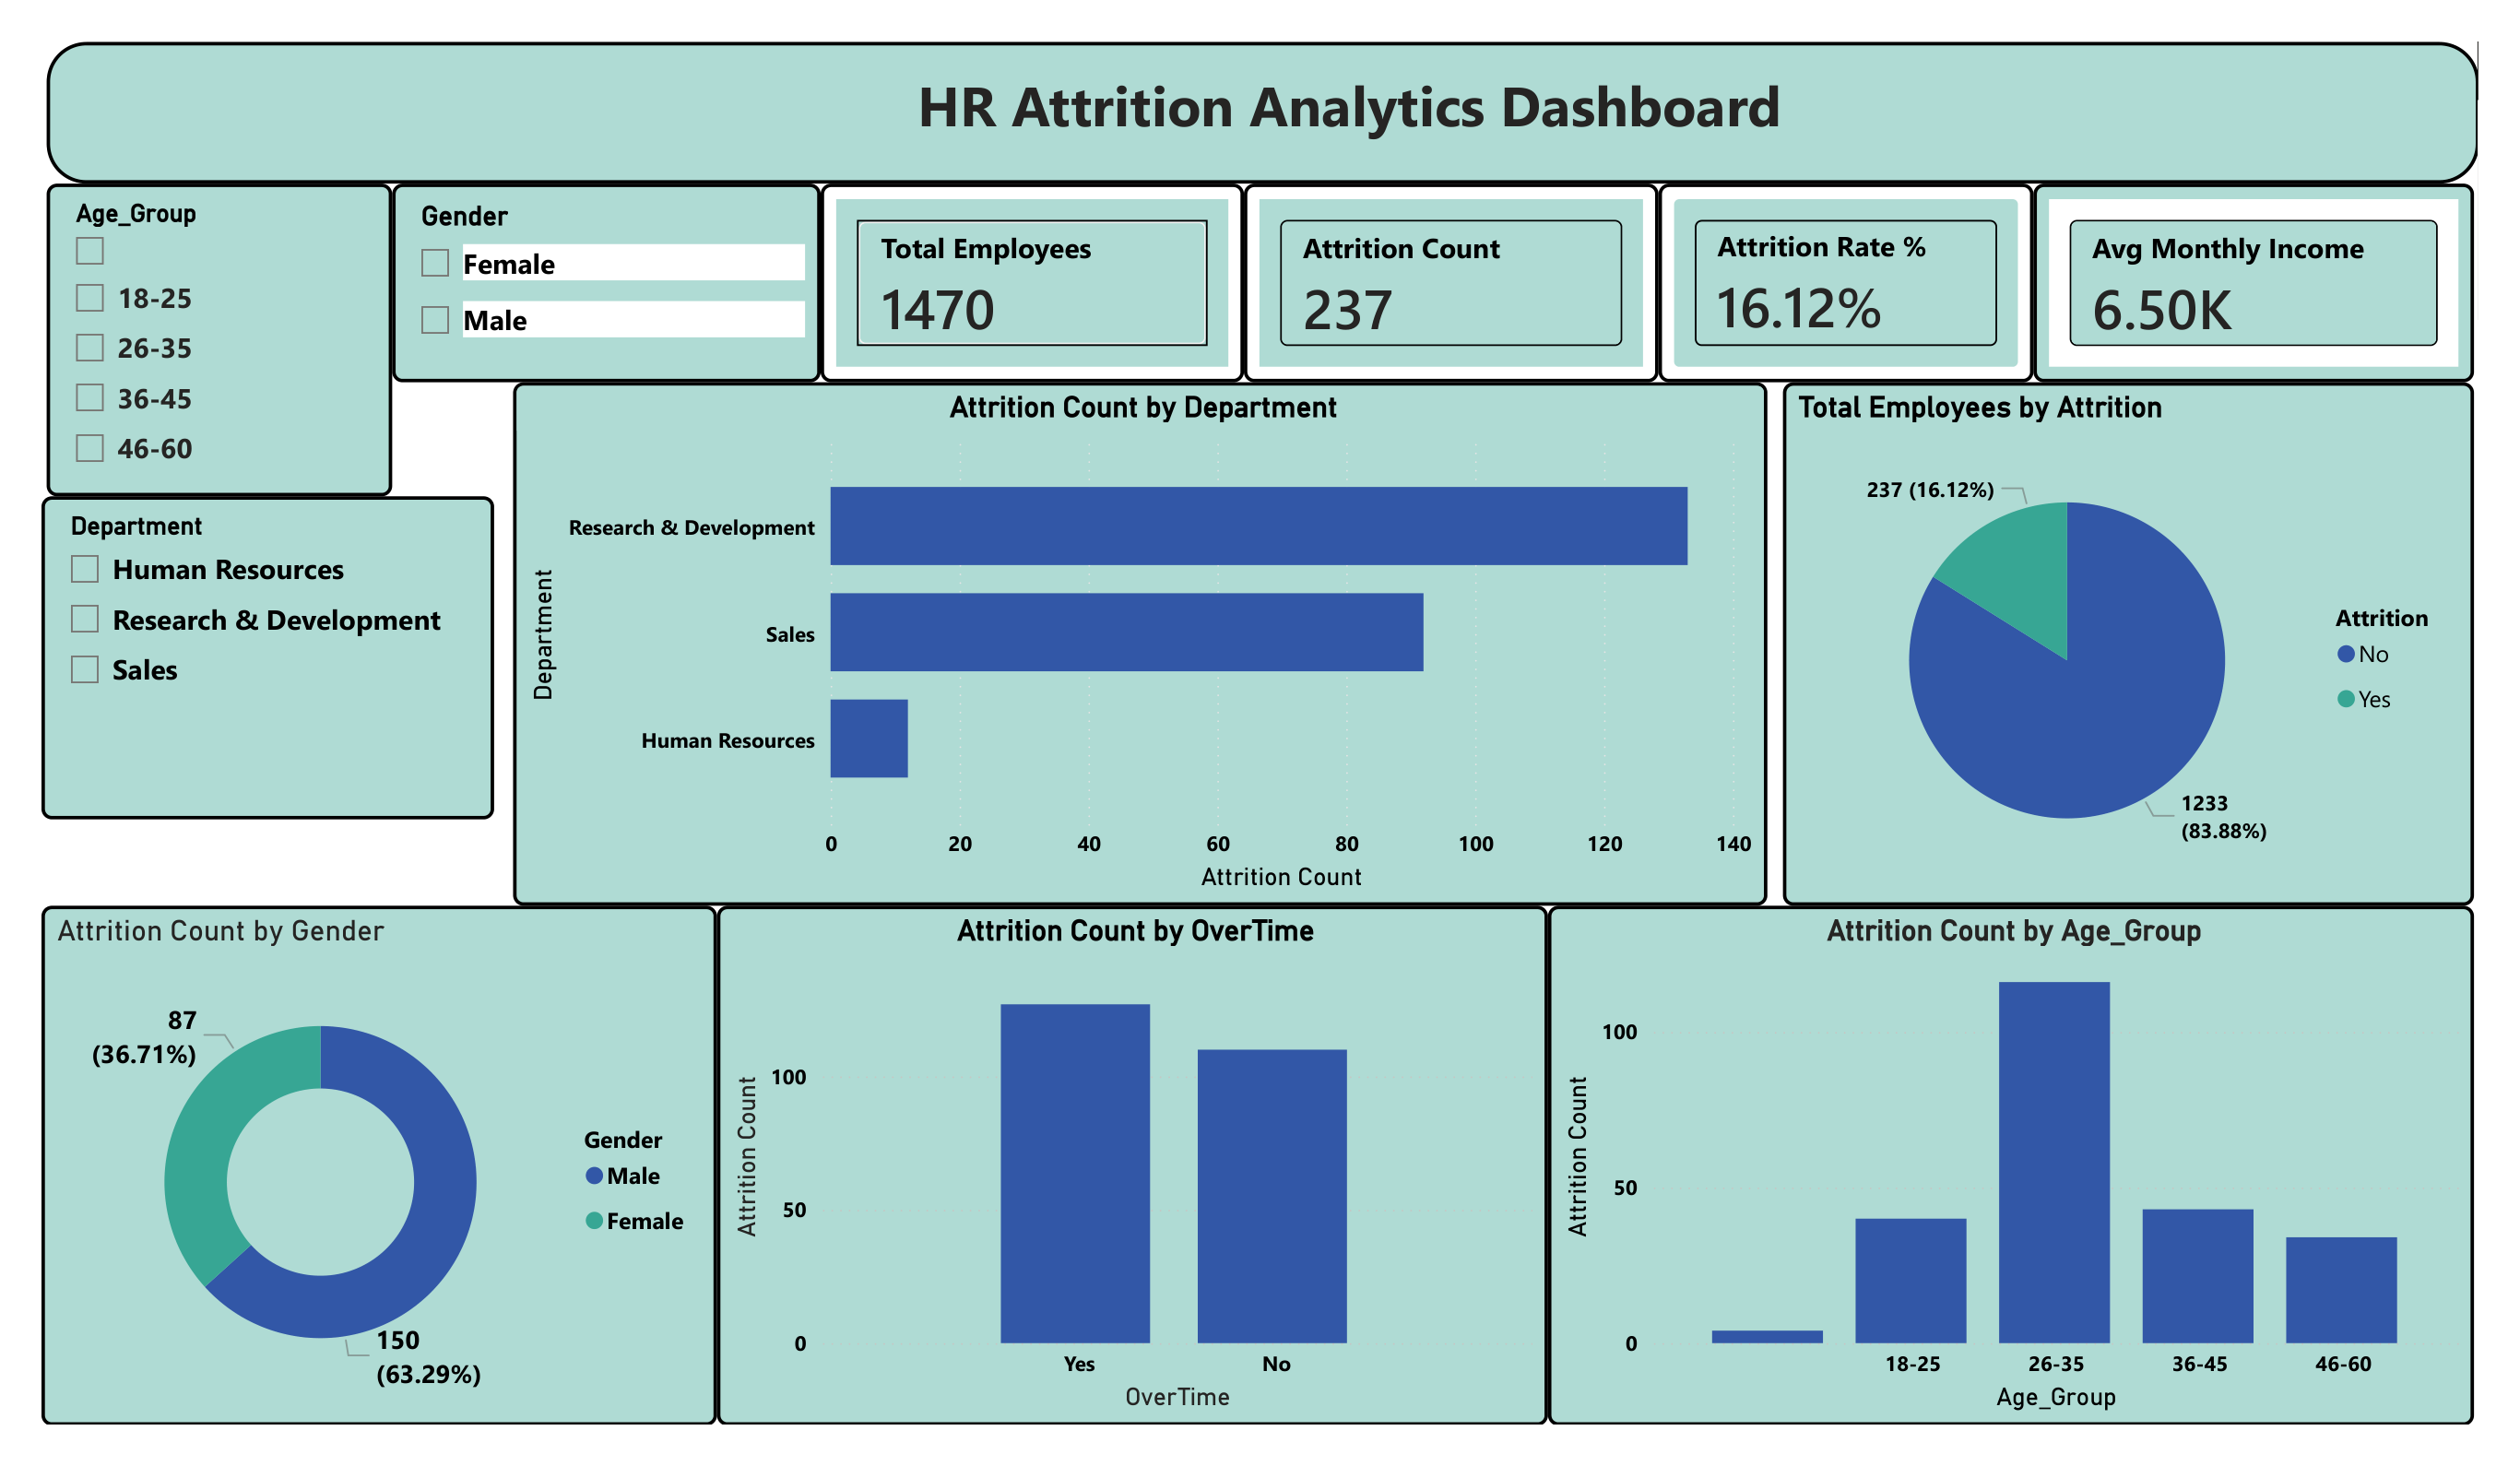

What the dashboard file says about the page in this screenshot:
{"tool":"powerbi","page":{"name":"Hr Attrition  Analysis","canvas":[1410,800],"ordinal":0},"visuals":[{"type":"cardVisual","fields":{"Data":["HR_Attrition_Clean.Attrition Count"]},"box":[696.4,82.3,239.9,115.2],"z":0},{"type":"cardVisual","fields":{"Data":["HR_Attrition_Clean.Attrition Rate %"]},"box":[936.3,82.3,216.6,115.2],"z":1000},{"type":"cardVisual","fields":{"Data":["HR_Attrition_Clean.Avg Monthly Income"]},"box":[1152.9,82.3,255,115.2],"z":2000},{"type":"cardVisual","fields":{"Data":["HR_Attrition_Clean.Total Employees"]},"box":[451,82.3,245.4,115.2],"z":3000},{"type":"pieChart","fields":{"Category":["HR_Attrition_Clean.Attrition"],"Y":["HR_Attrition_Clean.Total Employees"]},"box":[1007.6,197.4,400.3,303],"z":4000},{"type":"clusteredBarChart","fields":{"Category":["HR_Attrition_Clean.Department"],"Y":["HR_Attrition_Clean.Attrition Count"]},"box":[272.8,197.4,726.5,303],"z":5000},{"type":"clusteredColumnChart","title":"     Attrition Count by Age_Group","fields":{"Category":["HR_Attrition_Clean.Age_Group"],"Y":["HR_Attrition_Clean.Attrition Count"]},"box":[871.9,500.4,536,300.2],"z":6000},{"type":"slicer","fields":{"Values":["HR_Attrition_Clean.Department"]},"box":[0,263.2,261.8,186.4],"z":7000},{"type":"slicer","fields":{"Values":["HR_Attrition_Clean.Gender"]},"box":[202.9,82.3,248.1,115.2],"z":8000},{"type":"slicer","fields":{"Values":["HR_Attrition_Clean.Age_Group"]},"box":[2.7,82.3,200.1,181],"z":9000},{"type":"donutChart","fields":{"Y":["HR_Attrition_Clean.Attrition Count"],"Category":["HR_Attrition_Clean.Gender"]},"box":[0,500.4,390.7,300.2],"z":10000},{"type":"clusteredColumnChart","fields":{"Category":["HR_Attrition_Clean.OverTime"],"Y":["HR_Attrition_Clean.Attrition Count"]},"box":[390.7,500.4,481.2,300.2],"z":11000},{"type":"textbox","box":[2.7,0,1407.9,82.3],"z":12000}]}

Visuals, with their boxes in screenshot pixels (x1, y1, x2, y2), scaled from the page's 1410x800 canvas onto the 2520x1466 screenshot:
cardVisual - HR_Attrition_Clean.Attrition Count: x1=1245, y1=151, x2=1674, y2=362
cardVisual - HR_Attrition_Clean.Attrition Rate %: x1=1674, y1=151, x2=2061, y2=362
cardVisual - HR_Attrition_Clean.Avg Monthly Income: x1=2061, y1=151, x2=2516, y2=362
cardVisual - HR_Attrition_Clean.Total Employees: x1=806, y1=151, x2=1245, y2=362
pieChart - HR_Attrition_Clean.Attrition x HR_Attrition_Clean.Total Employees: x1=1801, y1=361, x2=2516, y2=917
clusteredBarChart - HR_Attrition_Clean.Department x HR_Attrition_Clean.Attrition Count: x1=488, y1=361, x2=1786, y2=917
"     Attrition Count by Age_Group" clusteredColumnChart: x1=1558, y1=917, x2=2516, y2=1465
slicer - HR_Attrition_Clean.Department: x1=0, y1=482, x2=467, y2=824
slicer - HR_Attrition_Clean.Gender: x1=362, y1=151, x2=806, y2=362
slicer - HR_Attrition_Clean.Age_Group: x1=5, y1=151, x2=362, y2=482
donutChart - HR_Attrition_Clean.Attrition Count x HR_Attrition_Clean.Gender: x1=0, y1=917, x2=698, y2=1465
clusteredColumnChart - HR_Attrition_Clean.OverTime x HR_Attrition_Clean.Attrition Count: x1=698, y1=917, x2=1558, y2=1465
textbox: x1=5, y1=0, x2=2519, y2=151
